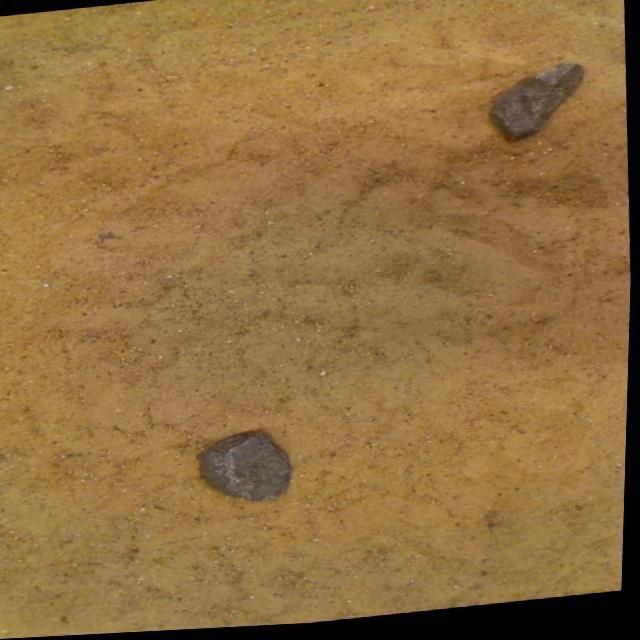rock: (490, 69, 582, 148), (200, 436, 292, 503)
